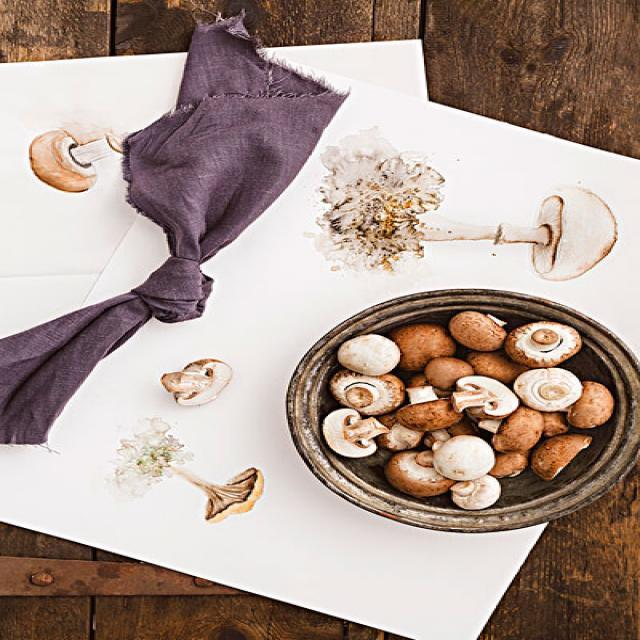Agaricus bisporus: (331, 314, 609, 503), (417, 186, 622, 279), (161, 452, 267, 524), (33, 124, 128, 192), (165, 360, 235, 407)
